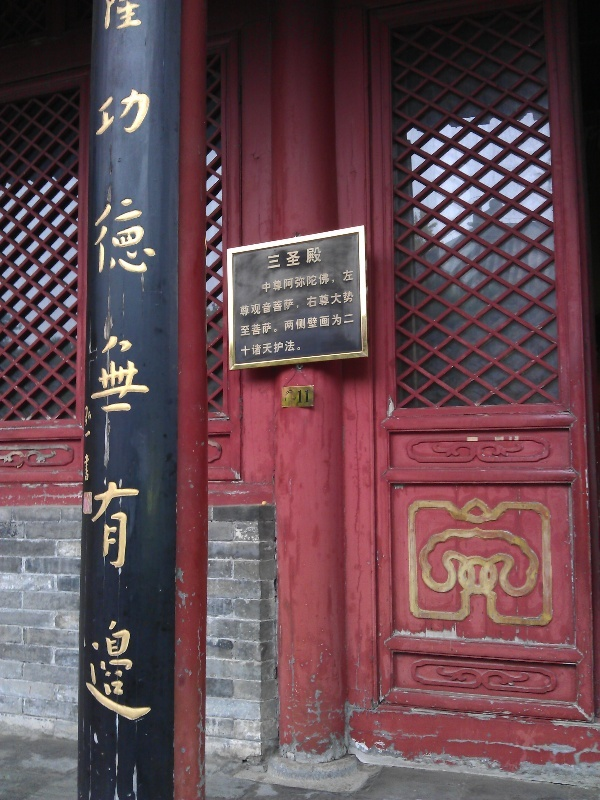text: (113, 2, 128, 730), (129, 2, 144, 730), (145, 2, 160, 730), (99, 2, 112, 730), (85, 406, 96, 481), (241, 290, 256, 319), (257, 290, 272, 319), (273, 290, 288, 319), (289, 290, 304, 319), (305, 290, 320, 319), (321, 290, 336, 319), (337, 290, 352, 319), (337, 269, 353, 294), (273, 246, 288, 272), (289, 246, 304, 272), (305, 246, 320, 272), (273, 269, 288, 294), (289, 269, 304, 294), (305, 269, 320, 294), (321, 269, 336, 294), (241, 312, 256, 337), (257, 312, 272, 337), (273, 312, 288, 337), (289, 312, 304, 337), (305, 312, 320, 337), (321, 312, 336, 337), (337, 312, 352, 337), (241, 339, 256, 358), (257, 339, 272, 358), (273, 339, 288, 358), (261, 269, 272, 294), (289, 339, 301, 358), (267, 246, 272, 272), (298, 390, 304, 403), (305, 390, 311, 403), (353, 312, 356, 337), (353, 290, 355, 319), (321, 246, 323, 272), (239, 290, 240, 319)
